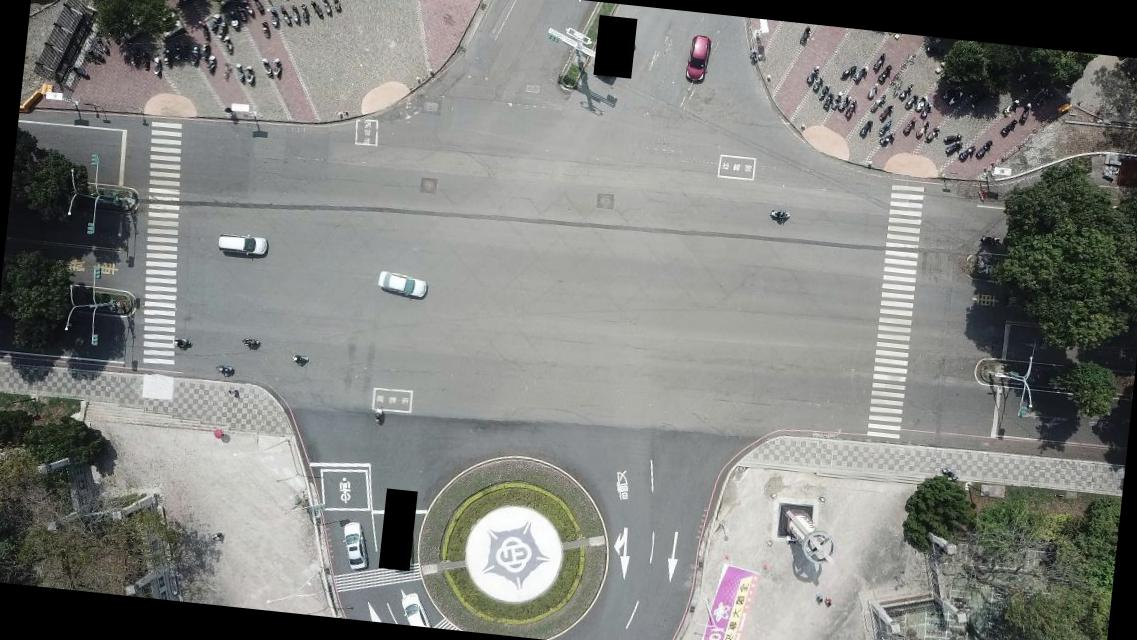vehicle: (336, 520, 372, 574), (373, 268, 430, 300), (215, 231, 269, 258), (683, 34, 710, 83), (398, 591, 434, 626)
